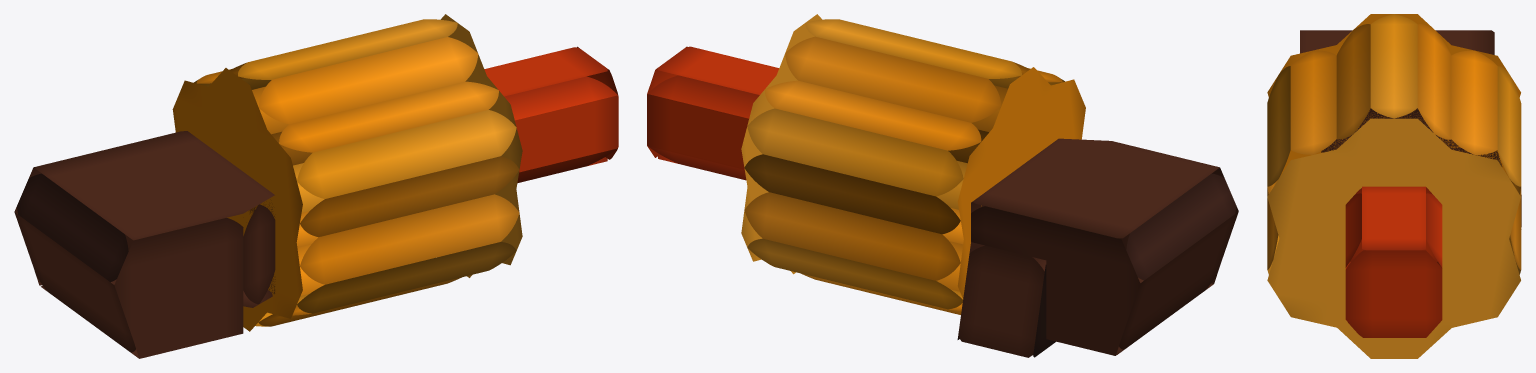
Rendered from TexasRedLeftArm.obj.
The picture shows the model from 3 angles, left to right: view 1: azimuth 30°, elevation 25°; view 2: azimuth 150°, elevation 25°; view 3: azimuth 270°, elevation 25°; orthographic projection. The views are drawn at different scales.
Visible parts, largest first — view 1: Forearm, cuboid, Arm; view 2: Forearm, cuboid, Arm; view 3: Forearm, Arm, cuboid.
Boxes of the visible parts, x1,y1,x2,y2 form: Forearm: (172, 14, 522, 331); cuboid: (14, 131, 275, 358); Arm: (484, 46, 618, 183); Forearm: (741, 14, 1085, 314); cuboid: (957, 138, 1238, 357); Arm: (647, 46, 778, 180); Forearm: (1267, 14, 1521, 358); Arm: (1345, 186, 1442, 337); cuboid: (1300, 30, 1521, 226).
Bounding box in the file's own units: 0.6906 × 0.3085 × 0.2957.
Materials: 1 (1 with a texture image).
